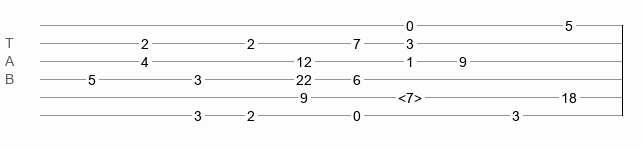0: (353, 108, 361, 118), (406, 18, 414, 28)
1: (406, 54, 414, 64)
12: (296, 54, 312, 64)
18: (561, 90, 577, 100)
2: (141, 36, 149, 46), (247, 108, 255, 118), (247, 36, 255, 46)
22: (296, 72, 312, 82)
3: (194, 72, 202, 82), (194, 108, 202, 118), (406, 36, 414, 46), (512, 108, 520, 118)
4: (141, 54, 149, 64)
5: (88, 72, 96, 82), (565, 18, 573, 28)
6: (353, 72, 361, 82)
7: (353, 36, 361, 46)
9: (300, 90, 308, 100), (459, 54, 467, 64)
harmonic: (398, 90, 422, 100)
